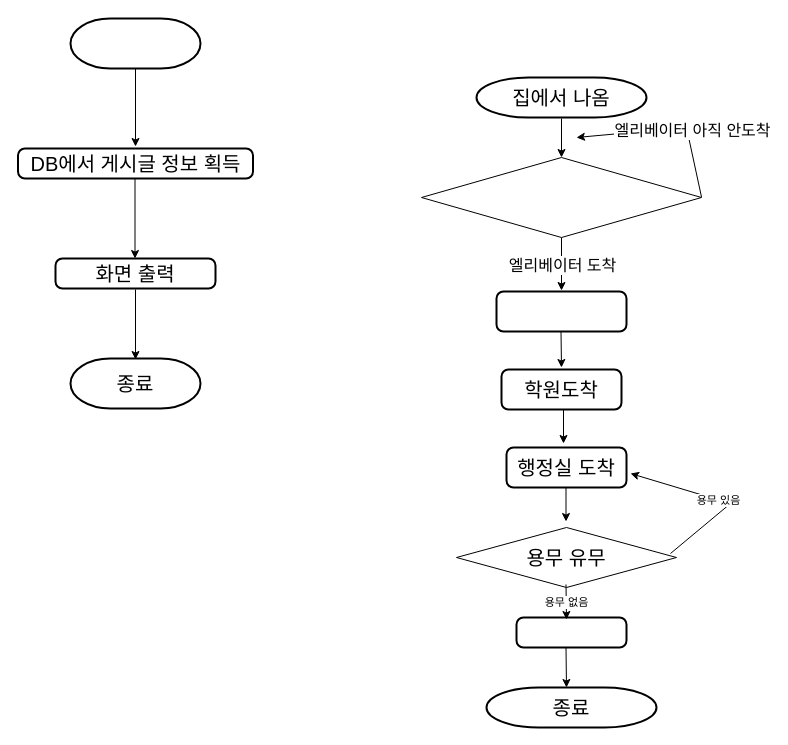
This 788x745 diagram has some shape labels left out. Here are the shapes that lost their labels. From the top down, the centre of each, then its label:
[135,43]: 시작
[561,197]: 엘리베이터 탑승 대기
[561,311]: 1층 도착
[571,632]: 506호로
